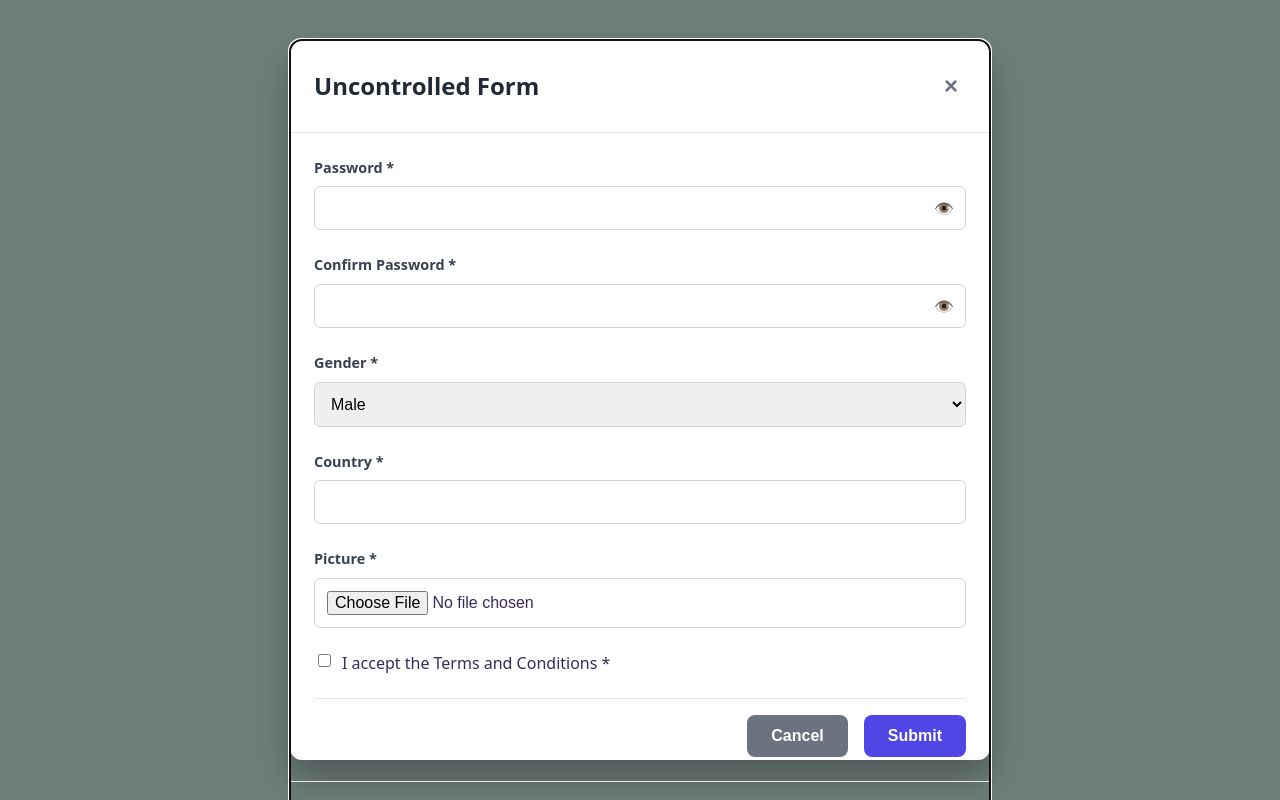
Test: UncontrolledForm Component › Field Validation › should show errors for empty required fields on submit
(page scrolled)
Click the button "Submit". click: (915,736)
box: [864, 715, 966, 757]
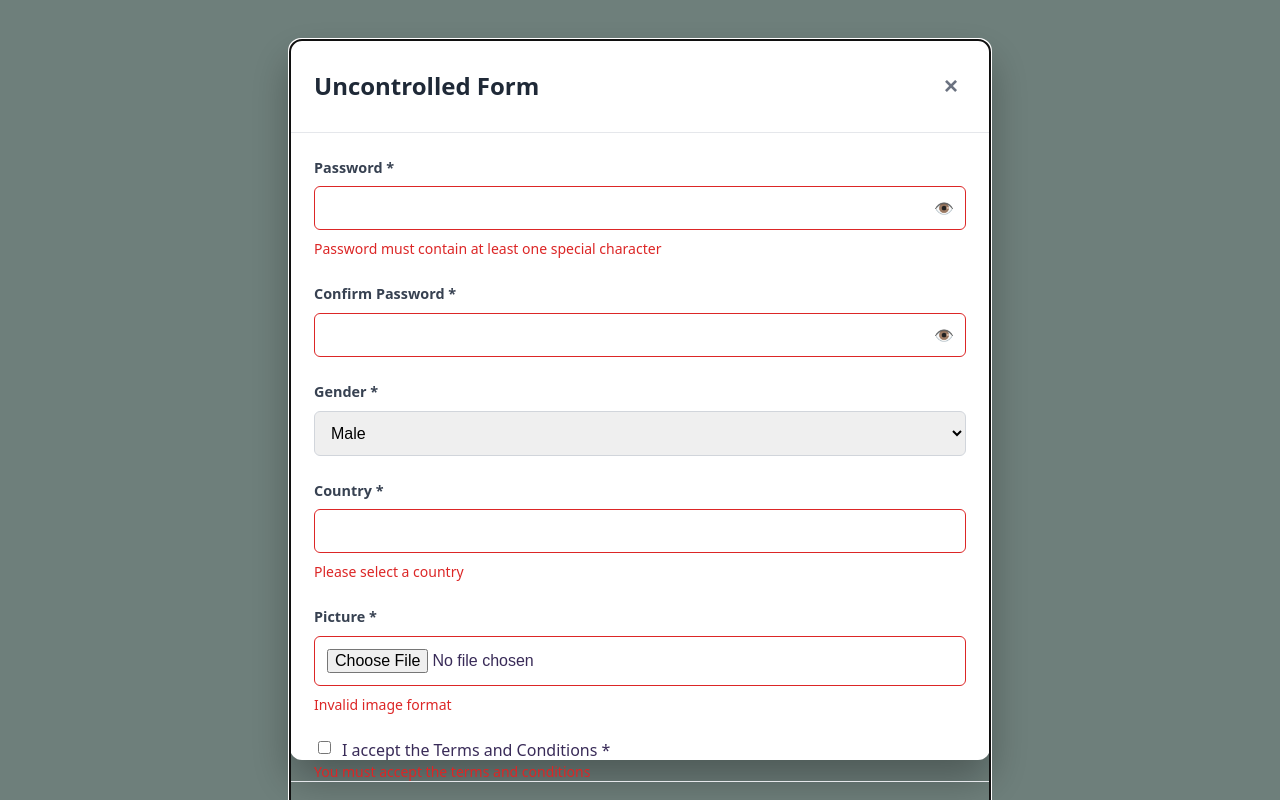
Expected: the text "Password must contain at least one special character" is shown, [314, 239, 661, 258]
Expected: the text "You must accept the terms and conditions" is shown, [314, 762, 590, 781]
